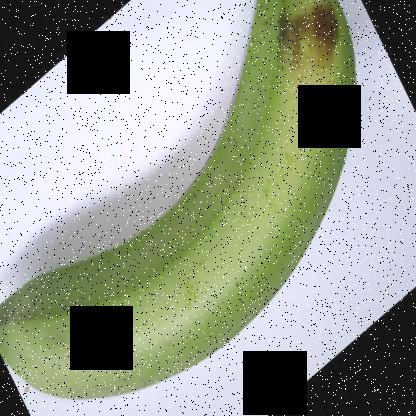freshunripe: (1, 1, 361, 415)
